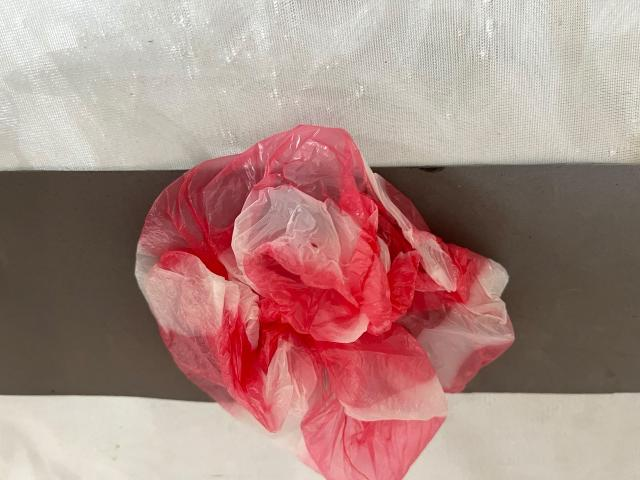LDPE: (98, 97, 549, 480)
